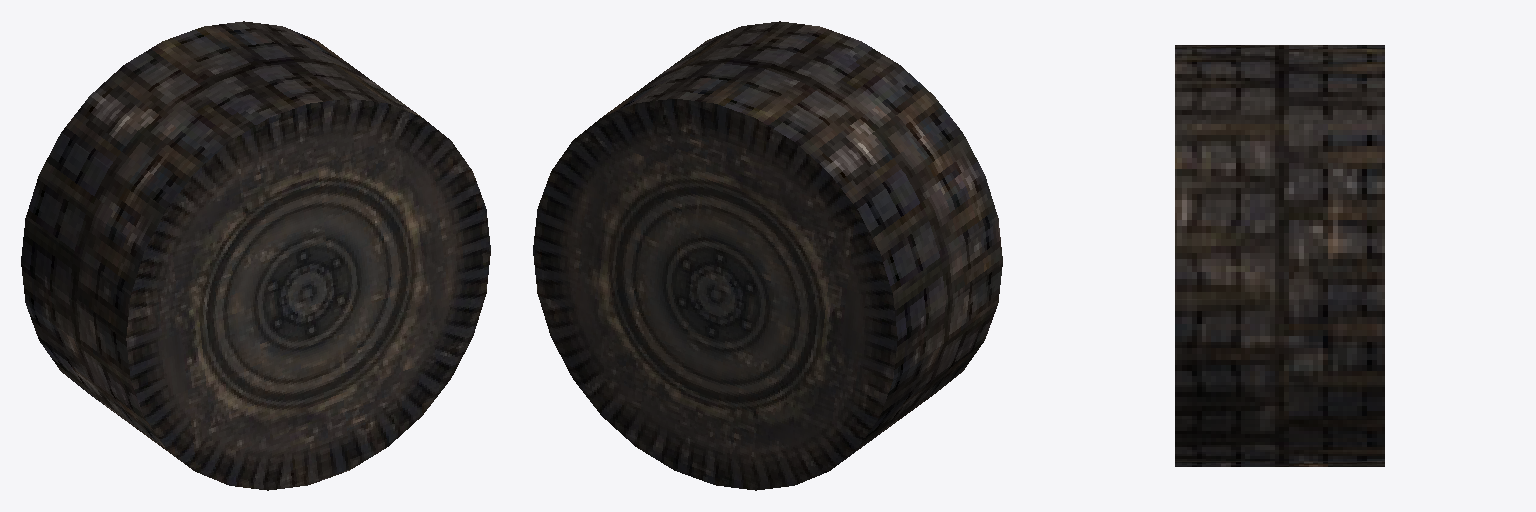
The picture shows the model from 3 angles: view 1: azimuth 30°, elevation 25°; view 2: azimuth 150°, elevation 25°; view 3: azimuth 270°, elevation 25°; orthographic projection.
Parts seen in each view (by area): view 1: Cylinder; view 2: Cylinder; view 3: Cylinder.
Part boxes in pixels (bbox=[...]): Cylinder: bbox=[21, 21, 490, 490]; Cylinder: bbox=[533, 21, 1002, 490]; Cylinder: bbox=[1175, 45, 1384, 466].
Size of the model in its own units: 2 by 2 by 1.
Materials: 1 (1 with a texture image).